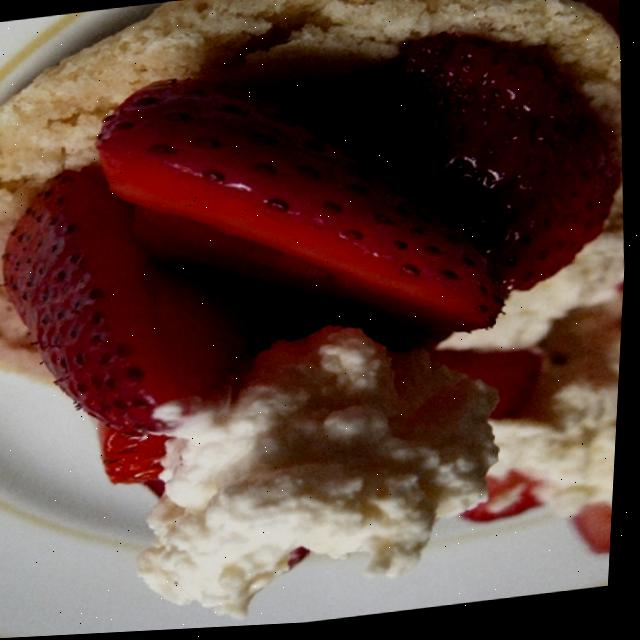蛋糕甜品: (0, 17, 638, 627)
